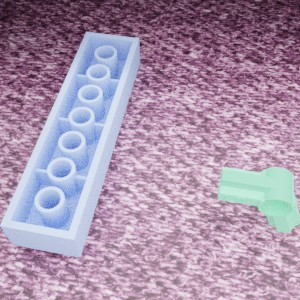lego: (0, 31, 139, 257), (217, 166, 299, 232)
